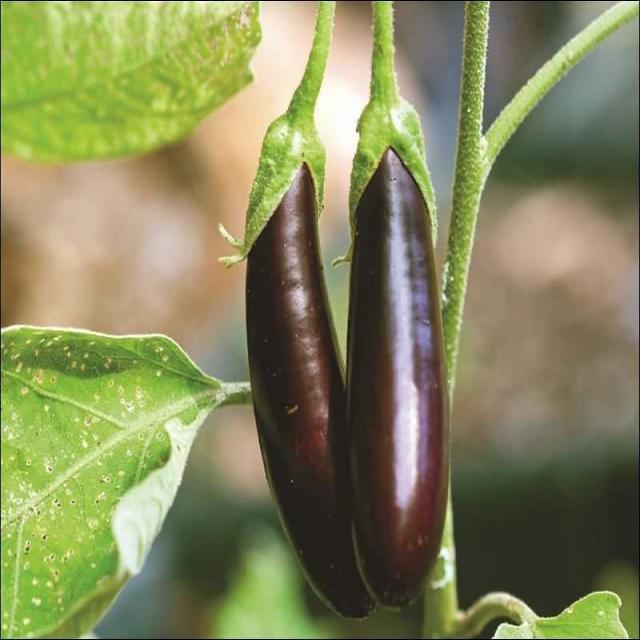Eggplant-r1Ob: (224, 3, 372, 617), (348, 3, 449, 606)
